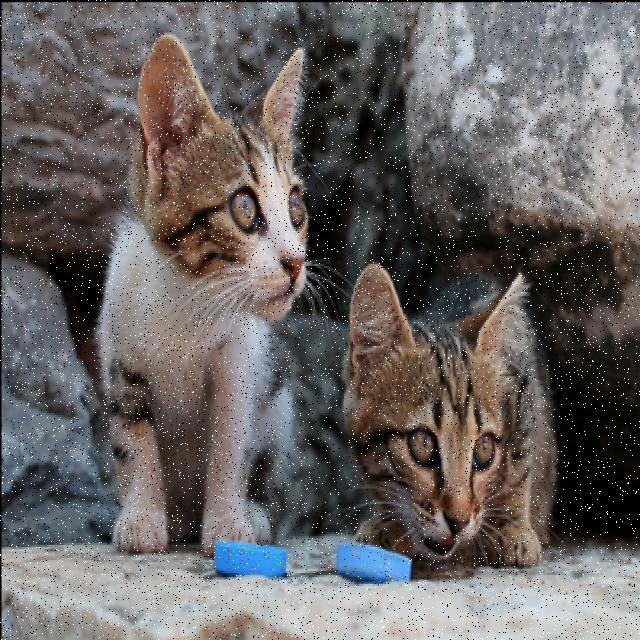cat: (98, 35, 308, 554), (344, 266, 556, 565)
